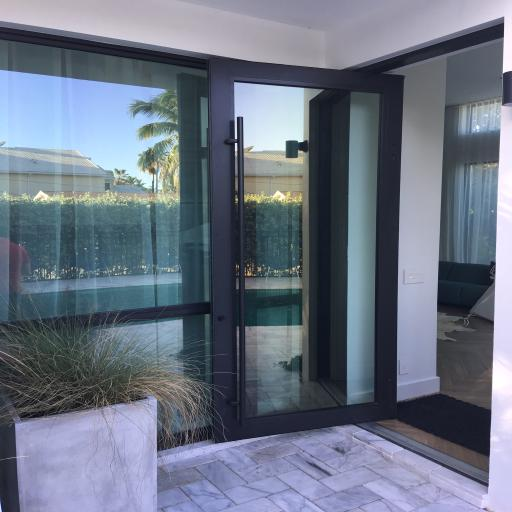Door: (208, 56, 404, 444)
